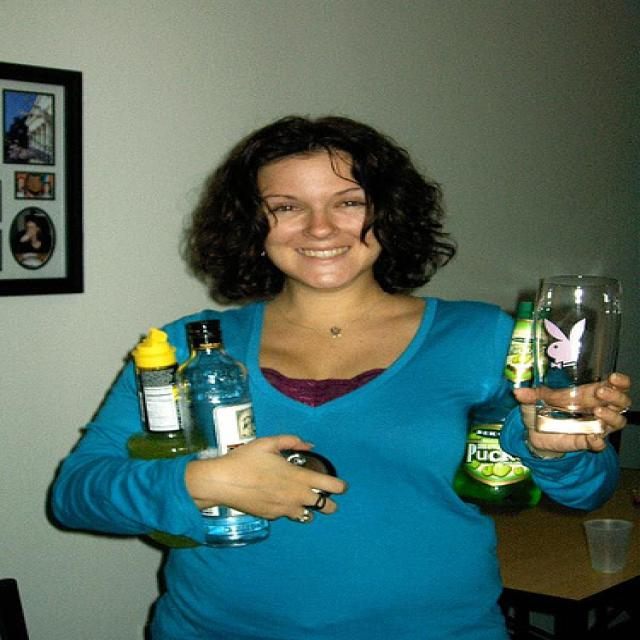bottle: (174, 318, 273, 549), (452, 290, 552, 516)
person: (44, 112, 636, 640)
